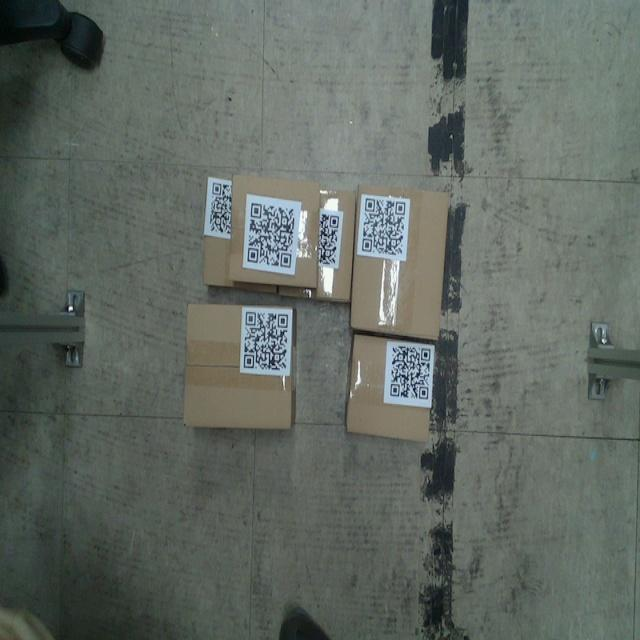box: (348, 179, 451, 344), (185, 302, 296, 432), (228, 171, 320, 288), (344, 332, 436, 444)
